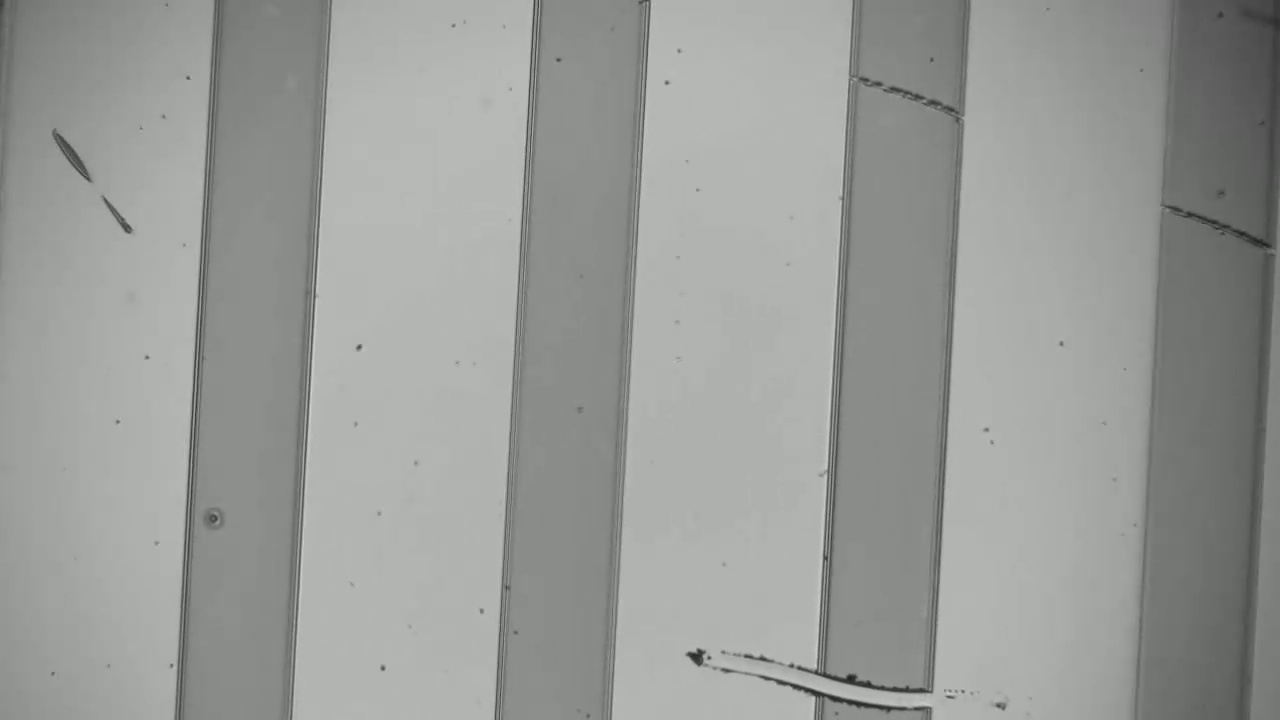Short_circuit: (795, 646, 961, 720)
scratch: (1179, 198, 1262, 253), (863, 70, 952, 121)
